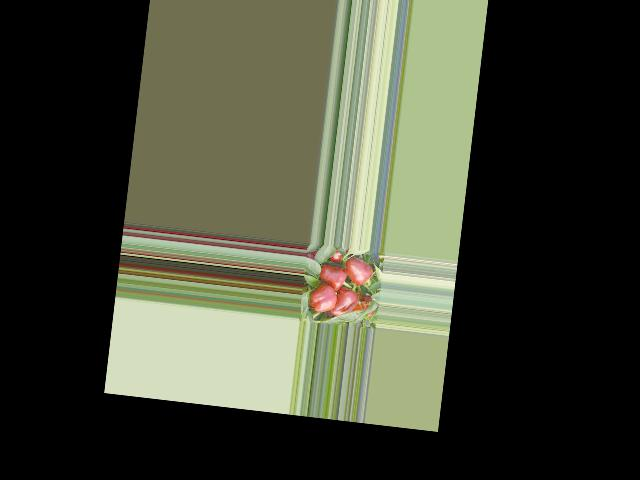bell_pepper: (308, 276, 339, 316)
